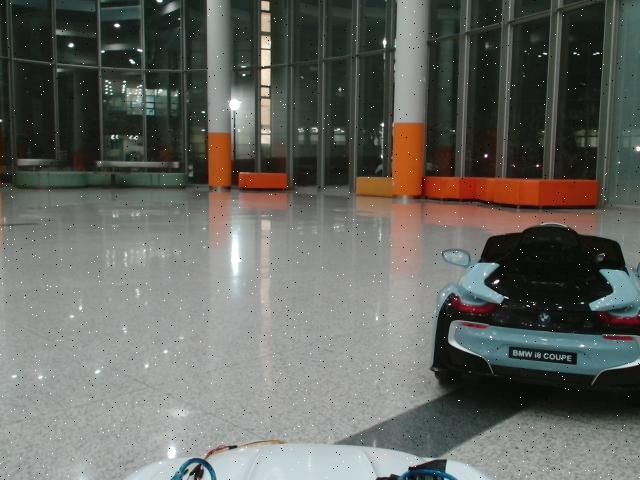car: (429, 223, 640, 397)
